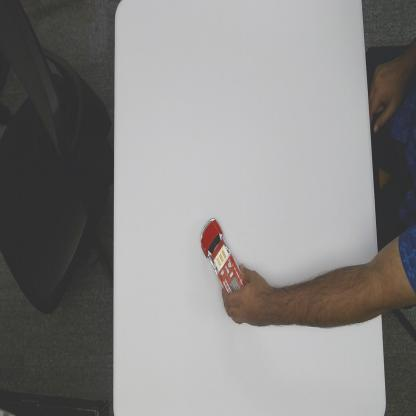Arm: (281, 234, 416, 333)
Firetruck: (199, 216, 245, 292)
Hand: (221, 263, 280, 329)
